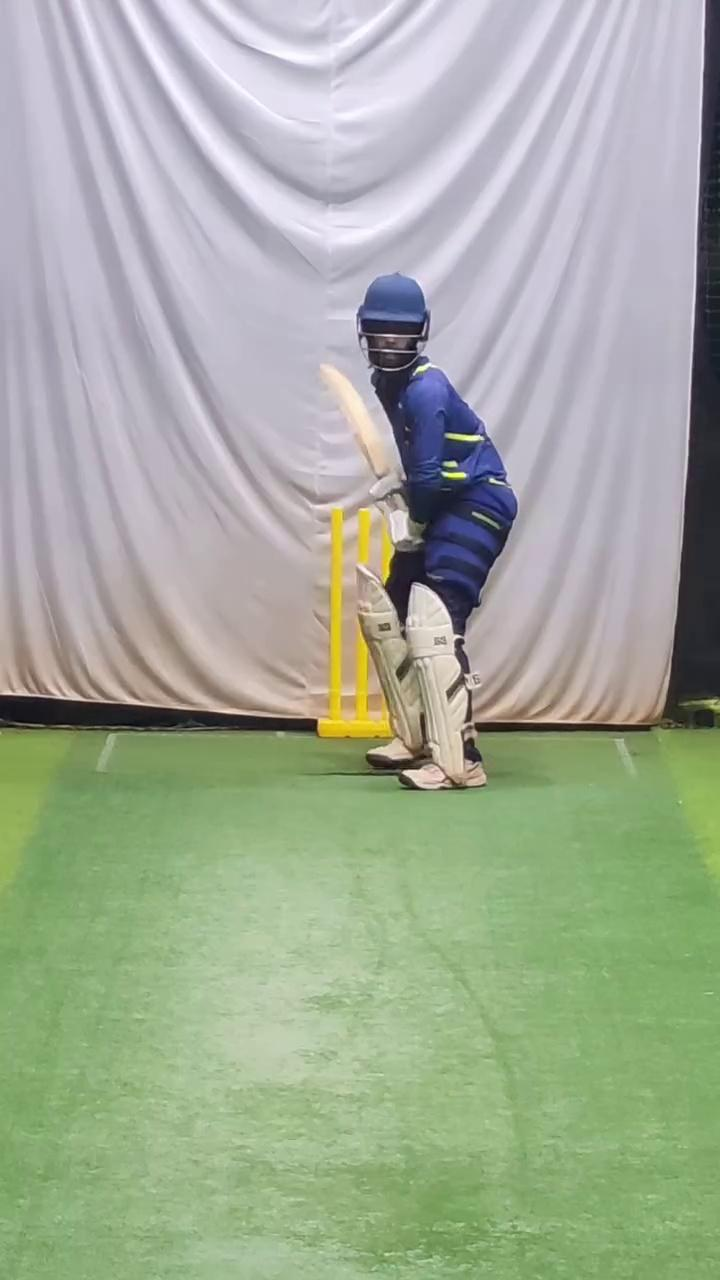bat: (315, 350, 404, 481)
